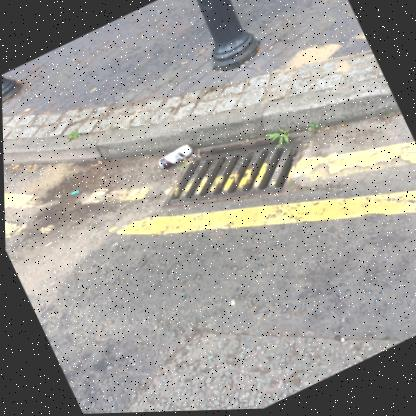Metal: (156, 145, 190, 169)
Waste: (129, 112, 136, 119), (41, 241, 49, 247), (88, 88, 94, 92), (139, 34, 142, 38), (95, 160, 100, 162), (179, 63, 183, 65), (71, 58, 73, 61)
